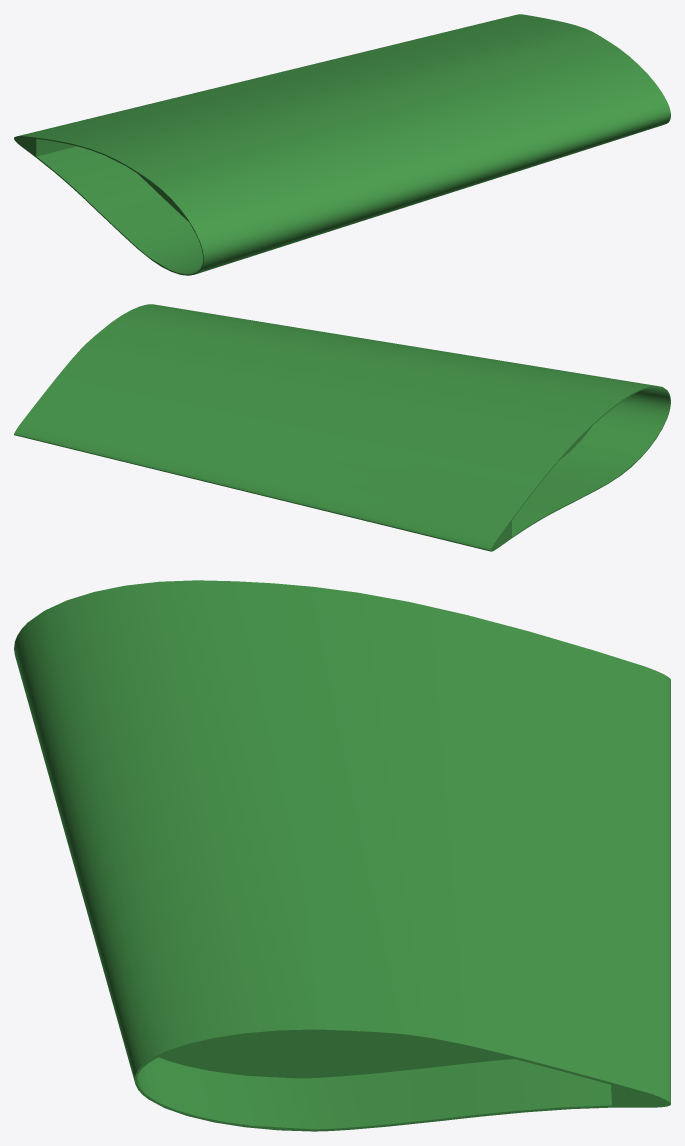
The model's file is structure v1.obj.
3 views of the same model, one above another, from view 1: azimuth 30°, elevation 25°; view 2: azimuth 150°, elevation 25°; view 3: azimuth 270°, elevation 25° (orthographic). The views are drawn at different scales.
Parts seen in each view (by area): view 1: fwd str, mid section str, aft str; view 2: mid section str, fwd str, aft str; view 3: mid section str, fwd str, aft str, keel 7.
Part boxes in pixels (x1,y1,x2,y2): fwd str: (151, 48, 670, 275); mid section str: (35, 16, 618, 259); aft str: (14, 14, 531, 156); mid section str: (30, 322, 621, 538); fwd str: (112, 304, 670, 474); aft str: (14, 412, 511, 551); mid section str: (194, 580, 614, 1131); fwd str: (14, 580, 313, 1131); aft str: (595, 651, 670, 1107); keel 7: (159, 1031, 513, 1078).
Bounding box in the file's own units: 20 × 3 × 13.1.
